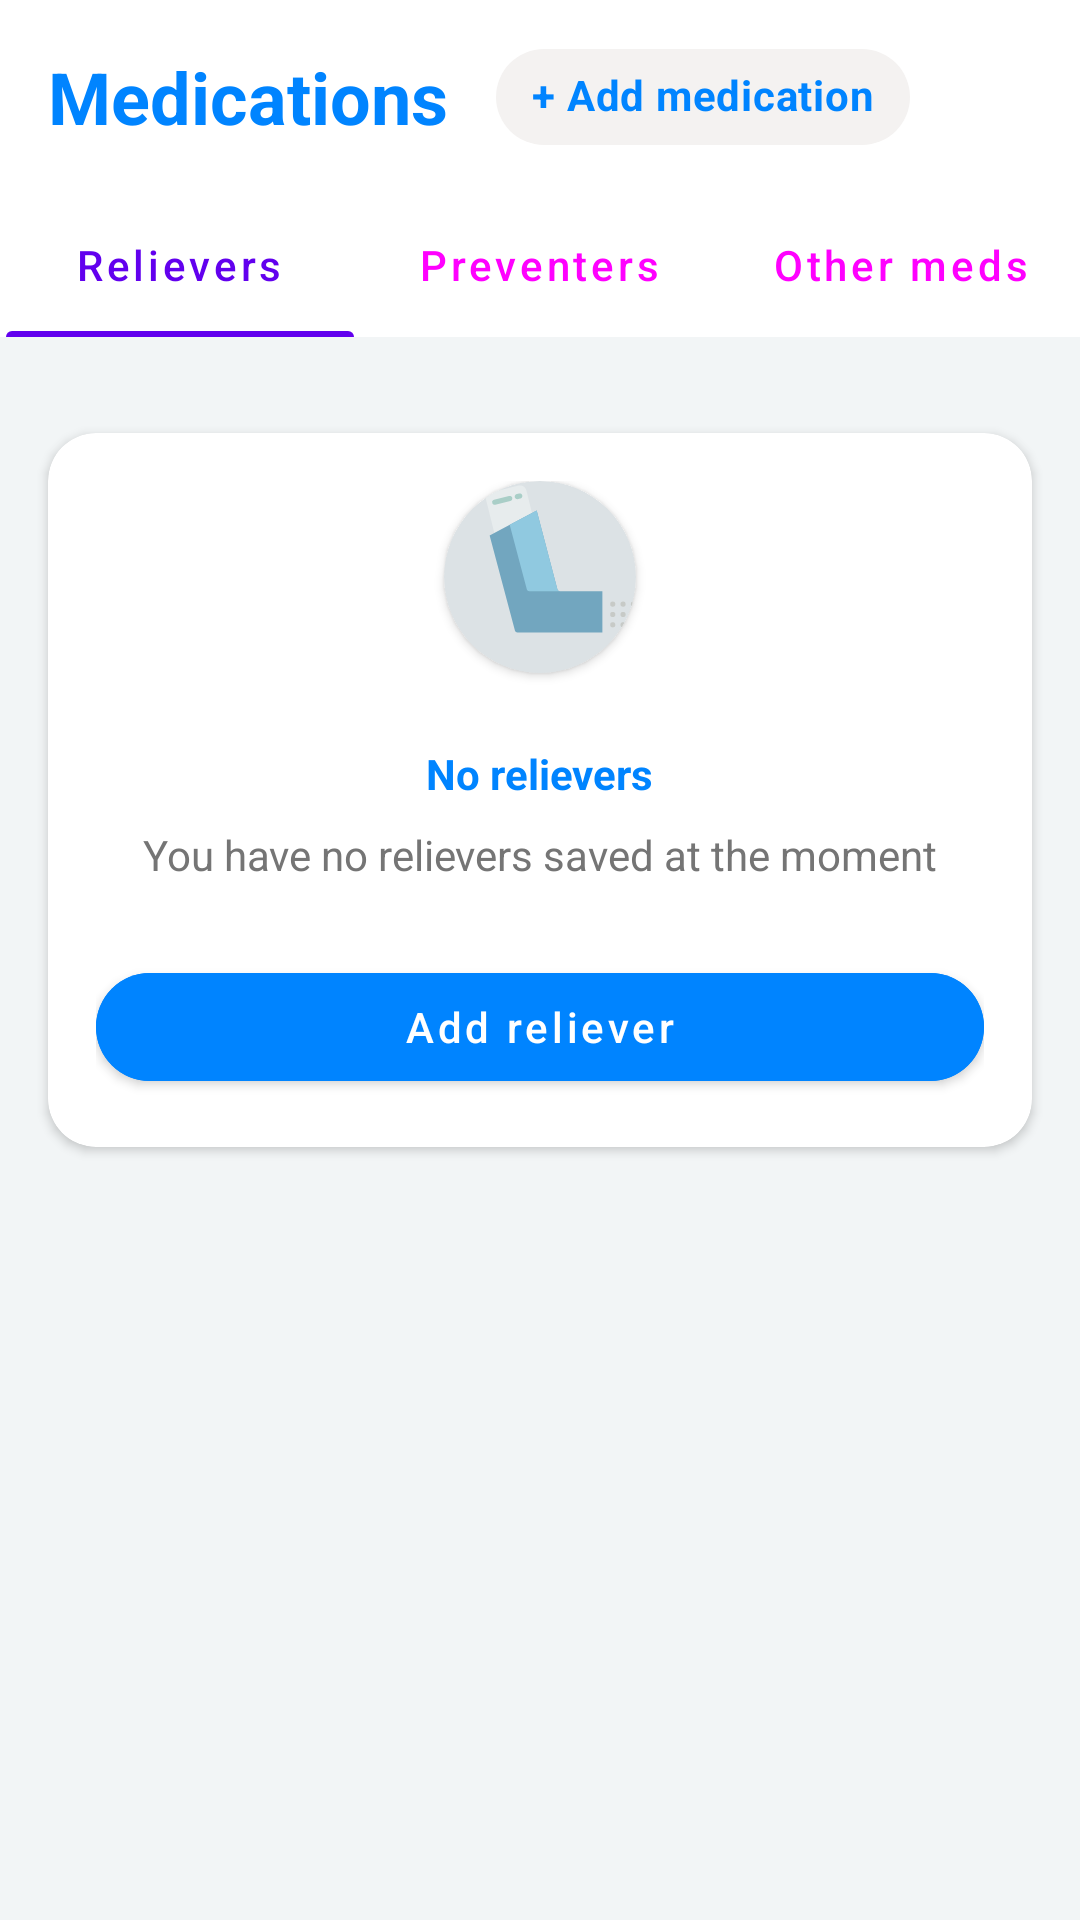

Icon bounding boxes for this 1080*1920 phone screenshot, format (x1, y1, x2, y2):
inhaler: (444, 481, 636, 673)
